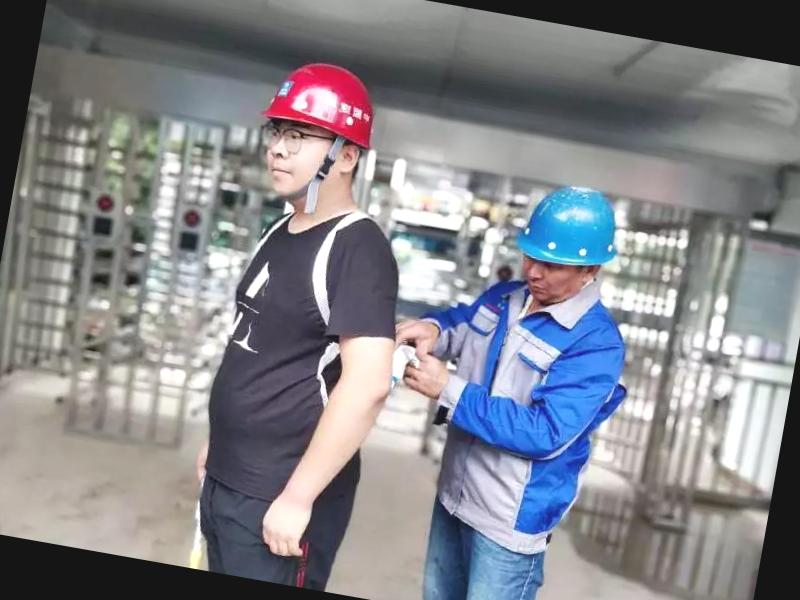helmet: (501, 169, 650, 293), (251, 60, 400, 158)
no_vest: (180, 192, 408, 524), (376, 275, 628, 561)
person: (167, 48, 438, 596), (361, 149, 672, 600)
